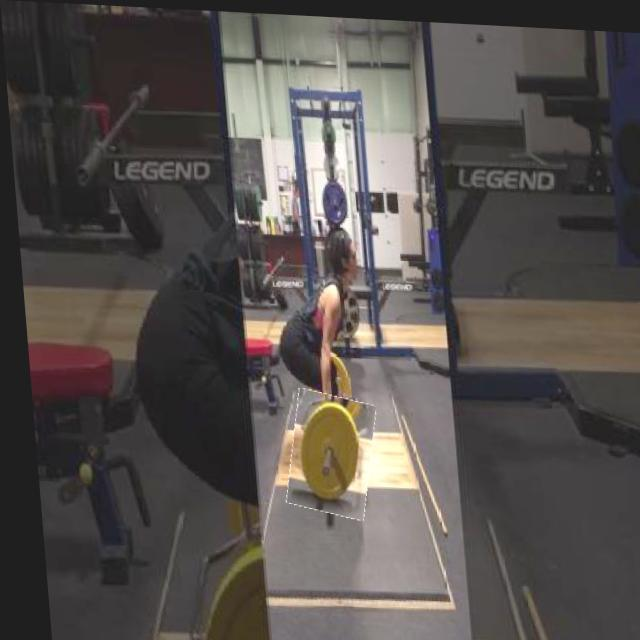barbell: (277, 389, 372, 516)
